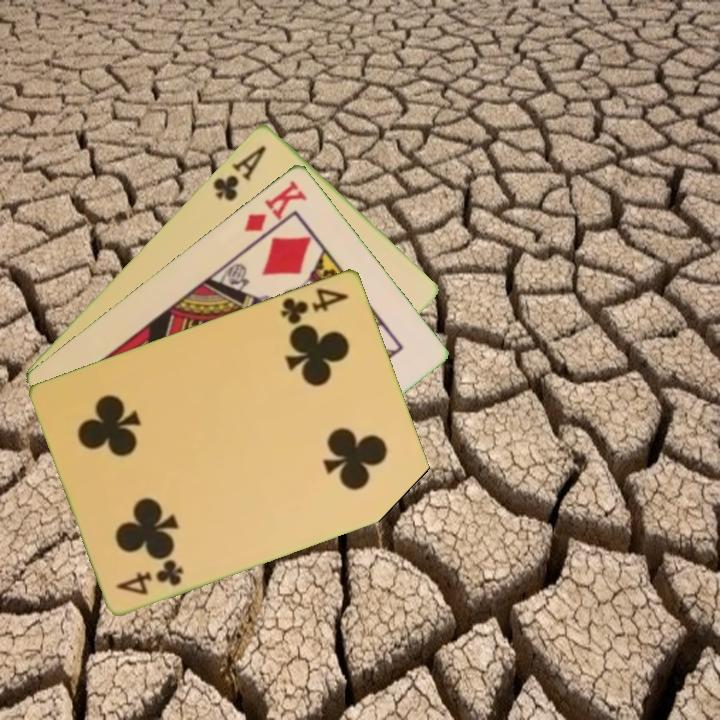4c: (277, 283, 352, 327), (113, 556, 187, 598)
Ac: (209, 141, 269, 204)
Kd: (240, 175, 311, 234)
